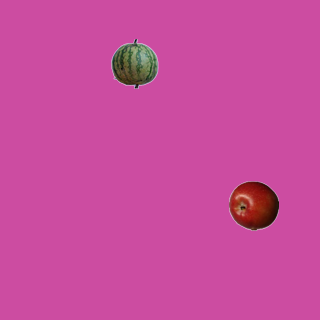Apple Braeburn: (228, 180, 278, 230)
Watermelon: (109, 38, 159, 88)
